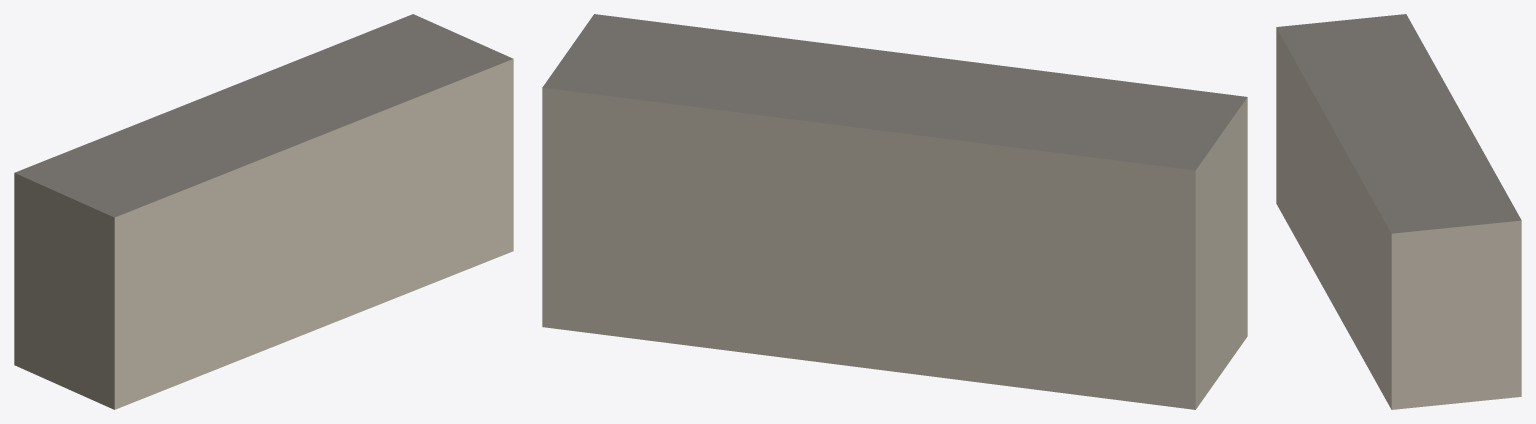
3 renders of one model, left to right at view 1: azimuth 30°, elevation 25°; view 2: azimuth 150°, elevation 25°; view 3: azimuth 270°, elevation 25°, orthographic. The views are drawn at different scales.
Parts seen in each view (by area): view 1: HP-w859488686; view 2: HP-w859488686; view 3: HP-w859488686.
Boxes of the visible parts, bbox=[...] form: HP-w859488686: bbox=[14, 14, 513, 409]; HP-w859488686: bbox=[542, 14, 1247, 409]; HP-w859488686: bbox=[1276, 14, 1521, 409].
Bounding box in the file's own units: 48.11 × 18 × 22.73.
